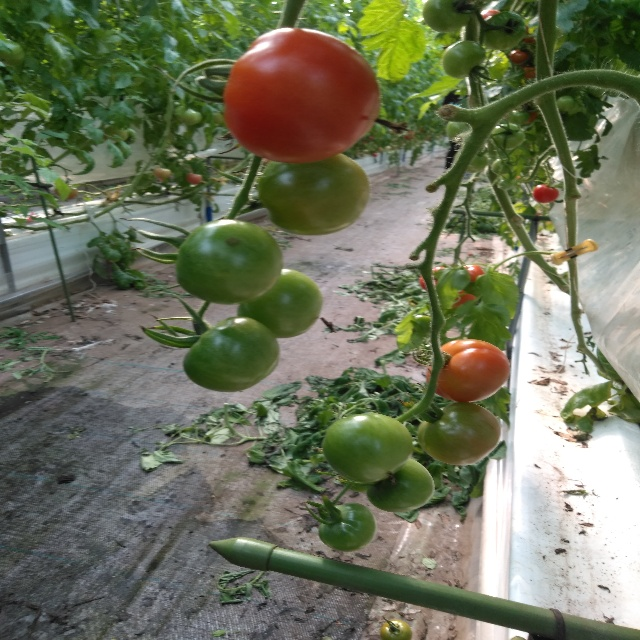l_fully_ripened: (223, 28, 381, 164), (532, 184, 559, 204)
l_green: (175, 220, 284, 305), (258, 154, 369, 236), (182, 316, 280, 392), (321, 413, 413, 483), (237, 269, 323, 340), (366, 457, 436, 513), (318, 503, 377, 552), (481, 11, 527, 50), (442, 41, 486, 79), (423, 0, 471, 33), (491, 124, 525, 150)
l_half_ripened: (417, 402, 501, 466), (426, 339, 510, 403), (379, 619, 411, 640)
